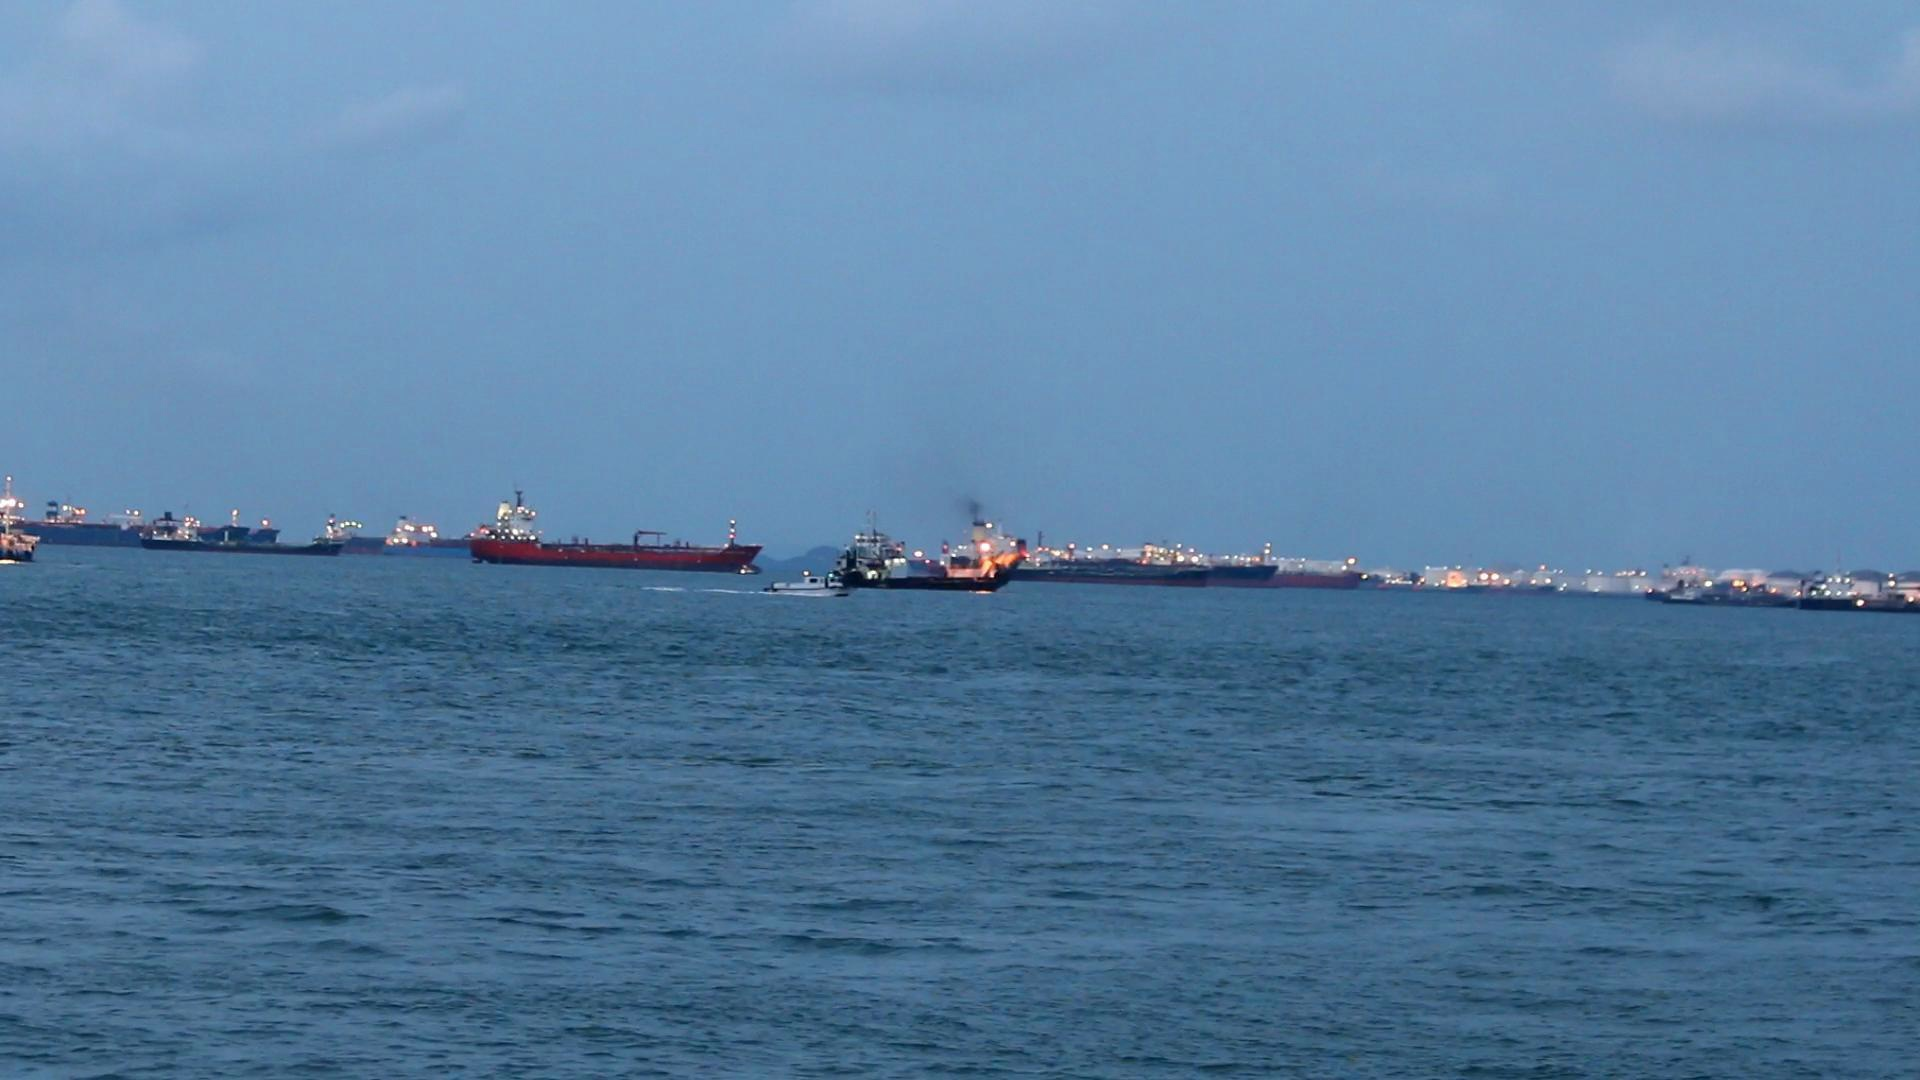Container Ship: (485, 501, 786, 567), (33, 497, 262, 543), (1014, 539, 1232, 585), (153, 522, 373, 560), (332, 504, 501, 553), (3, 479, 66, 563), (1680, 582, 1888, 605), (1286, 551, 1385, 592), (1232, 538, 1303, 591), (1800, 587, 1920, 609)
